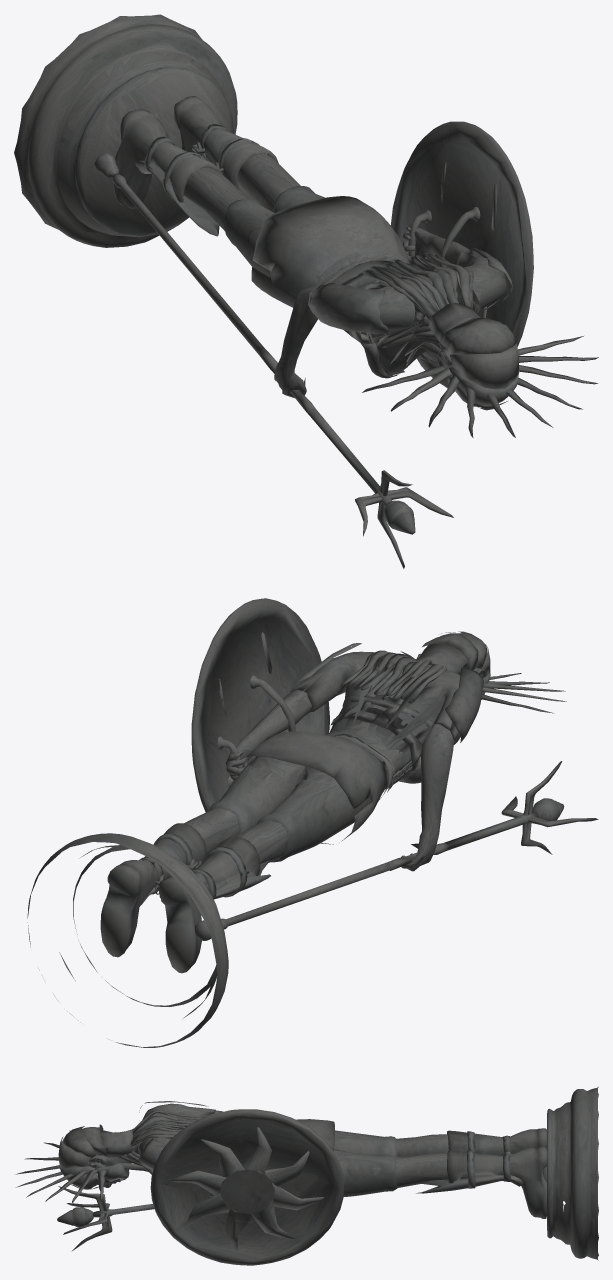
File: marble_statue.glb
3 views of the same model, one above another, from view 1: azimuth 30°, elevation 25°; view 2: azimuth 150°, elevation 25°; view 3: azimuth 270°, elevation 25° (orthographic). The views are drawn at different scales.
Parts seen in each view (by area): view 1: Innansorra; view 2: Innansorra; view 3: Innansorra.
Part boxes in pixels (x1,y1,x2,y2): Innansorra: (14, 14, 598, 568); Innansorra: (27, 598, 598, 1047); Innansorra: (15, 1086, 598, 1265).
Size of the model in its own units: 0.5797 by 0.6613 by 1.64.
1 material, 1 textured.
